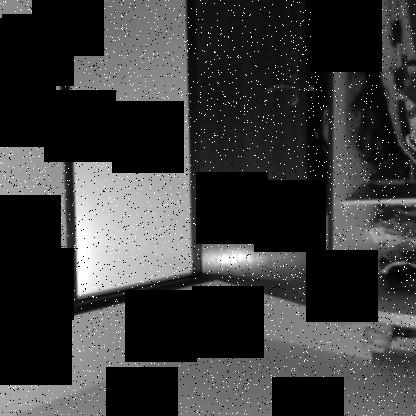Porte: (58, 0, 317, 322)
